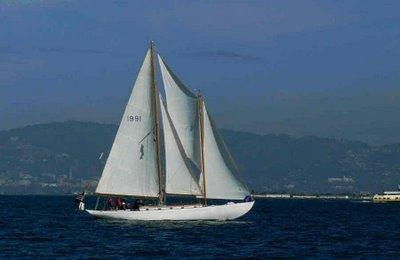Ship: (78, 42, 256, 223)
